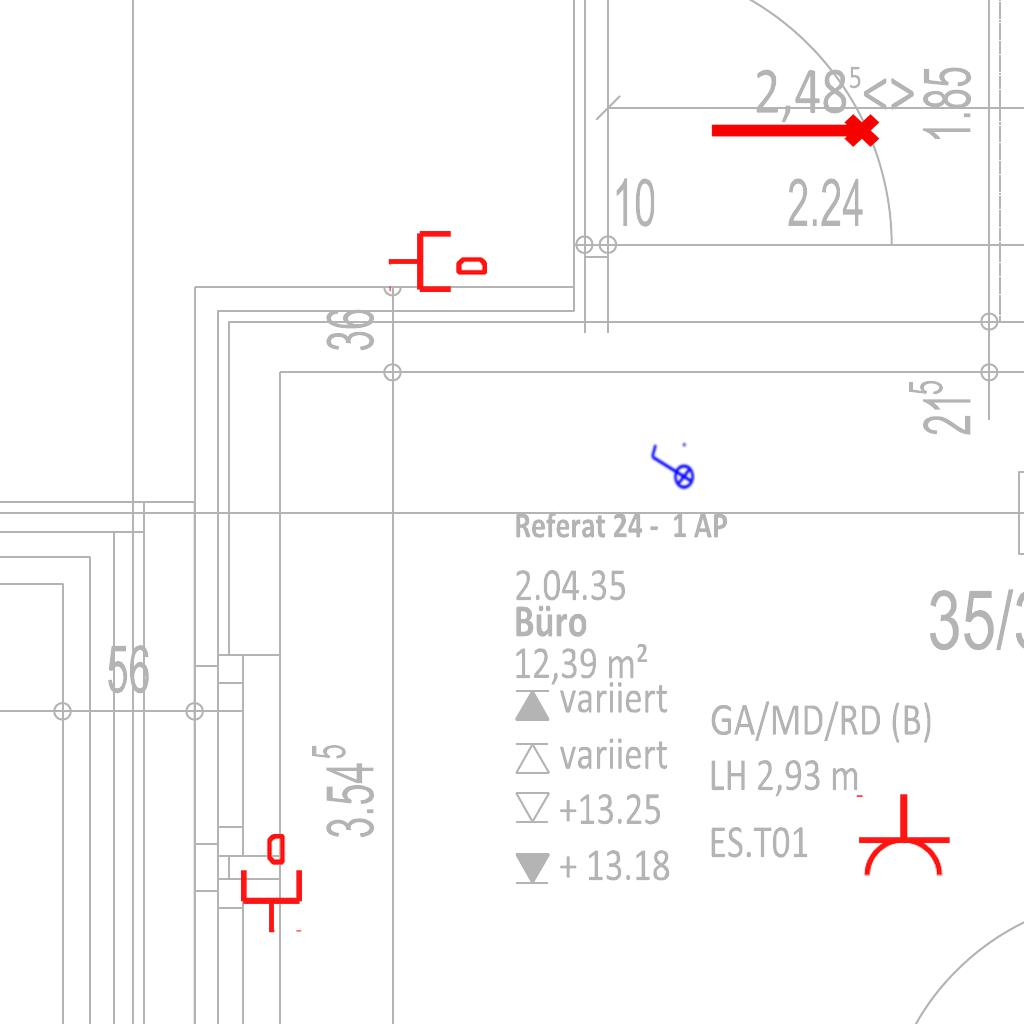ASR_Ansaugoeffnung: (706, 110, 882, 156)
Ausschalter_beleuchtet: (647, 440, 695, 496)
Datenanschluss_einfach: (237, 834, 306, 934), (387, 227, 487, 296)
Schukosteckdose_einfach: (852, 792, 952, 879)
